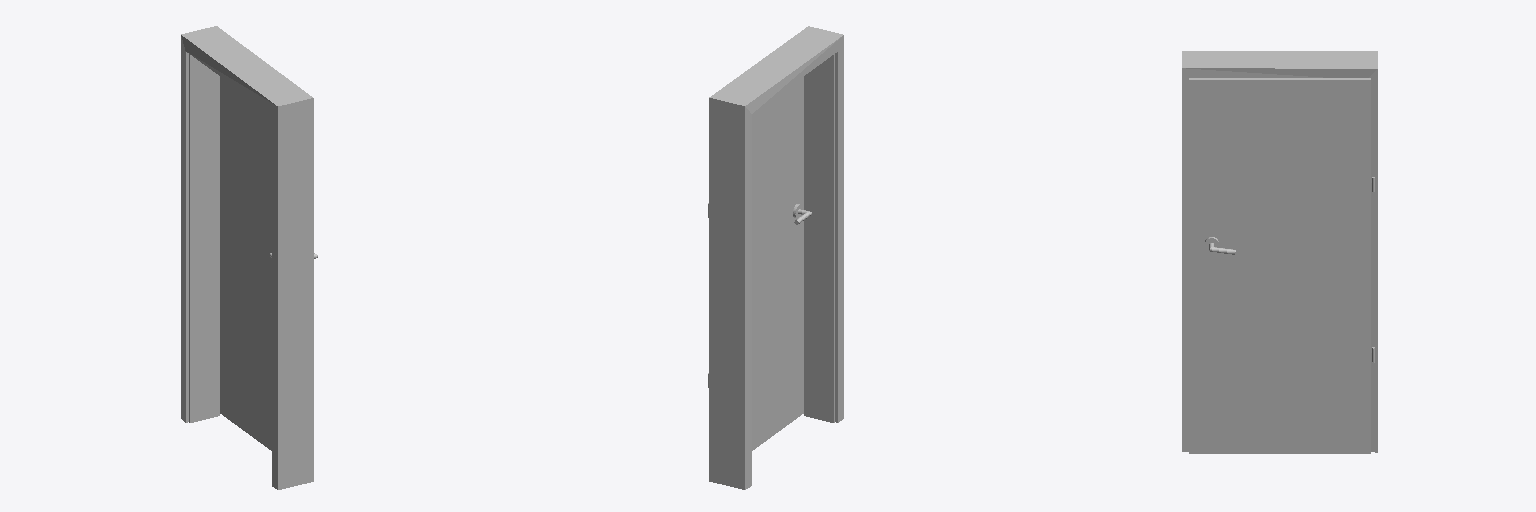
File: door23.obj
3 views of the same model, side by side, from view 1: azimuth 30°, elevation 25°; view 2: azimuth 150°, elevation 25°; view 3: azimuth 270°, elevation 25° (orthographic).
Parts seen in each view (by area): view 1: Cylinder.005, Cylinder.001; view 2: Cylinder.005, Cylinder.001; view 3: Cylinder.001, Cylinder.005.
Part boxes in pixels (x1,y1,x2,y2): Cylinder.005: (181,26,313,489); Cylinder.001: (220,77,271,450); Cylinder.005: (708,26,843,489); Cylinder.001: (708,77,803,450); Cylinder.001: (1189,78,1374,453); Cylinder.005: (1182,51,1377,452).
Size of the model in its own units: 0.3039 by 2.05 by 0.95.